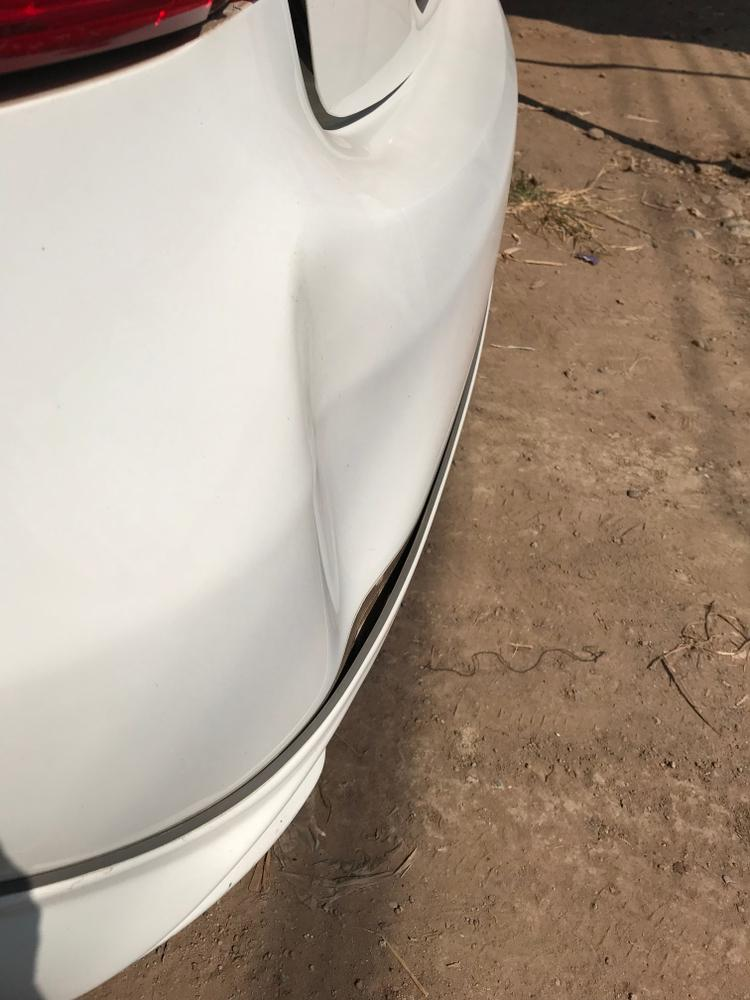dent: (291, 236, 465, 651)
